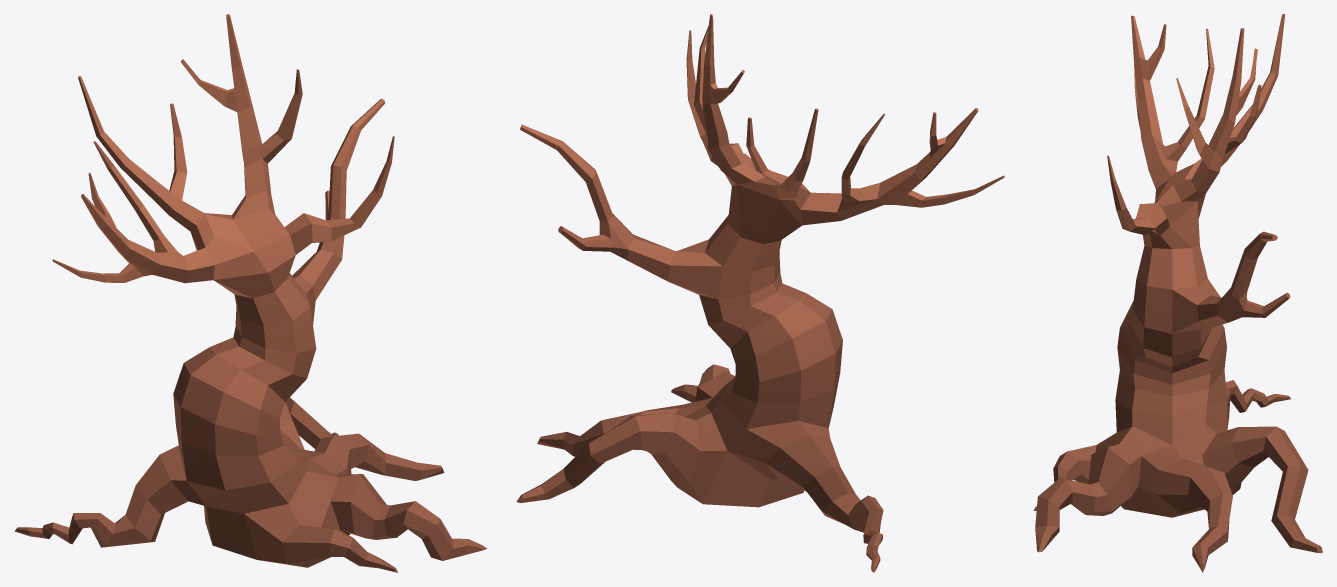
The model's file is wasteland_tree3.fbx.
The picture shows the model from 3 angles, left to right: view 1: azimuth 30°, elevation 25°; view 2: azimuth 150°, elevation 25°; view 3: azimuth 270°, elevation 25°; orthographic projection. The views are drawn at different scales.
Visible parts, largest first — view 1: wasteland_tree3; view 2: wasteland_tree3; view 3: wasteland_tree3.
Part boxes in pixels (<box>): wasteland_tree3: <box>14,14,487,572</box>; wasteland_tree3: <box>516,14,1004,572</box>; wasteland_tree3: <box>1033,14,1322,572</box>.
Bounding box in the file's own units: 6.03 × 6.67 × 3.8.
